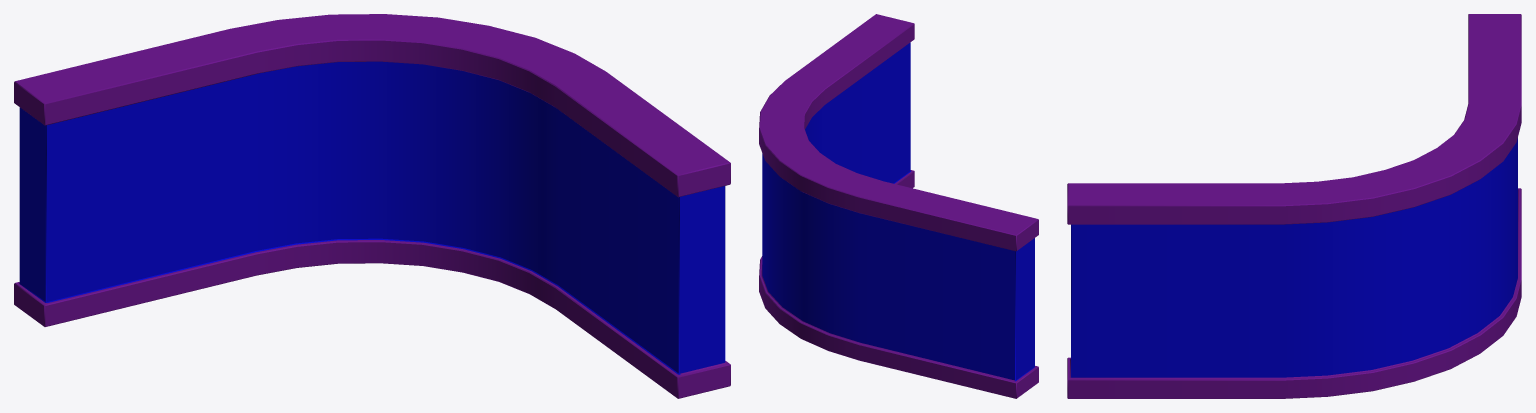
The model's file is Scifi2_WallB_Corner04.fbx.
3 views of the same model, side by side, from view 1: azimuth 30°, elevation 25°; view 2: azimuth 150°, elevation 25°; view 3: azimuth 270°, elevation 25° (orthographic). The views are drawn at different scales.
Parts seen in each view (by area): view 1: WallB_Corner_04; view 2: WallB_Corner_04; view 3: WallB_Corner_04.
Part boxes in pixels (x1=…): WallB_Corner_04: x1=14, y1=14, x2=730, y2=398; WallB_Corner_04: x1=759, y1=14, x2=1038, y2=398; WallB_Corner_04: x1=1067, y1=14, x2=1521, y2=398.
Size of the model in its own units: 850 by 400 by 850.
